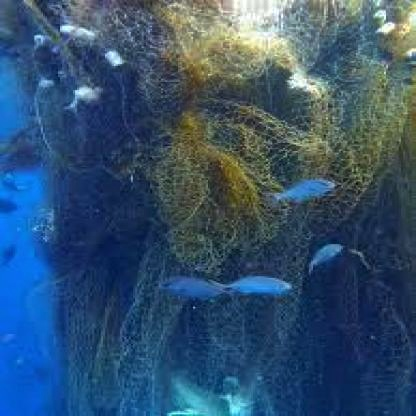net: (26, 5, 414, 416)
